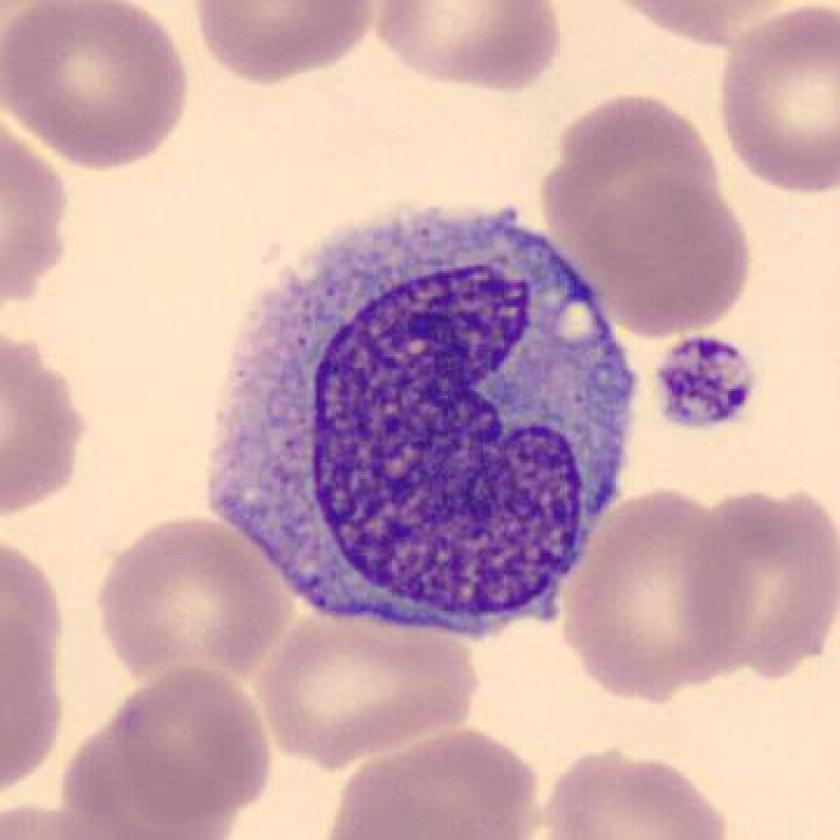monocyte: (195, 177, 654, 653)
